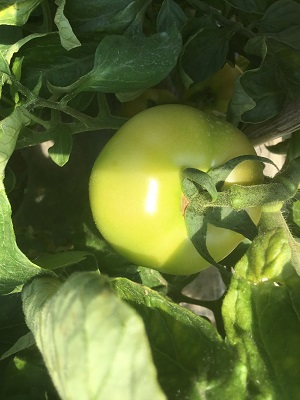immature-tomato: (93, 112, 259, 270)
